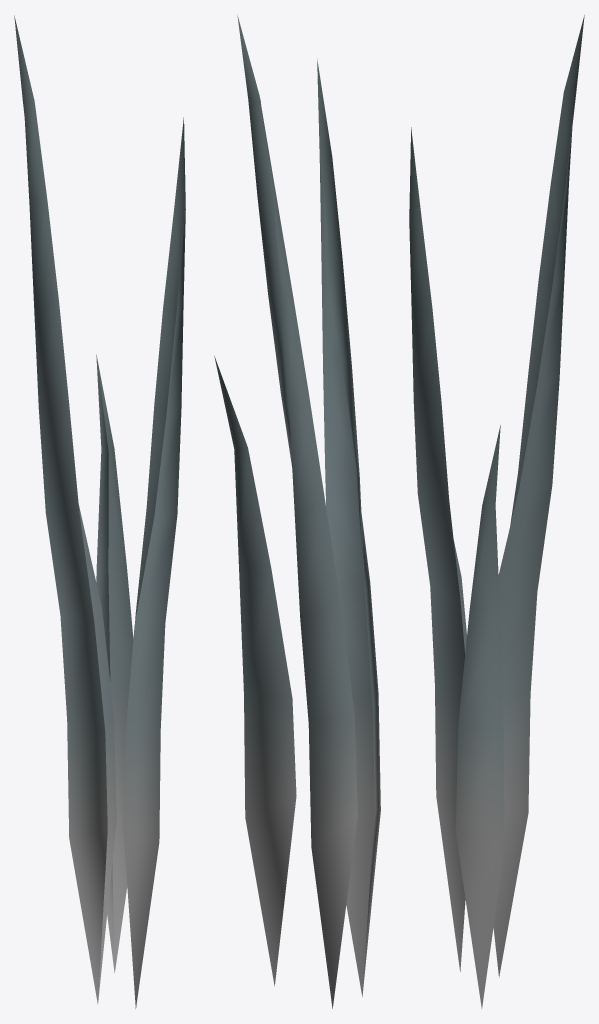
File: plants-grasses-reeds-grass-blades_v6.glb
3 views of the same model, side by side, from view 1: azimuth 90°, elevation 25°; view 2: azimuth 150°, elevation 25°; view 3: azimuth 270°, elevation 25° (orthographic). The views are drawn at different scales.
Parts seen in each view (by area): view 1: Grass Blades_v6; view 2: Grass Blades_v6; view 3: Grass Blades_v6.
Part boxes in pixels (x1,y1,x2,y2): Grass Blades_v6: (14, 15, 185, 1008); Grass Blades_v6: (214, 15, 380, 1008); Grass Blades_v6: (409, 15, 584, 1008).
Size of the model in its own units: 0.0604 by 0.4 by 0.0643.
